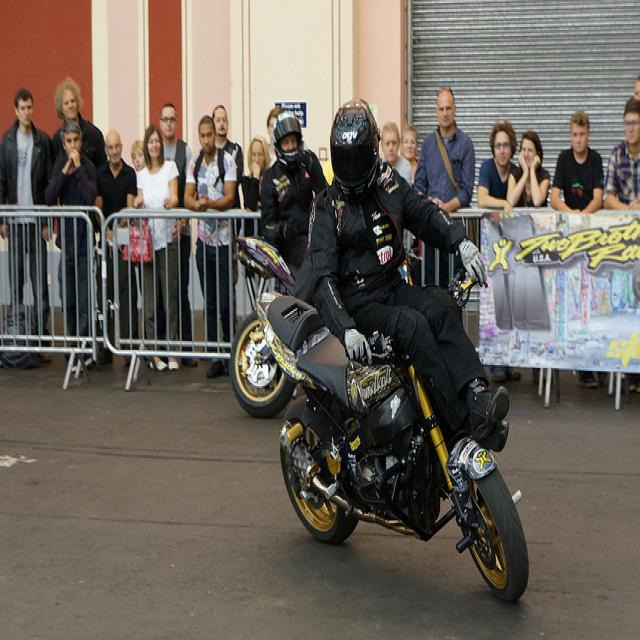motor: (252, 289, 530, 602), (227, 226, 301, 416)
